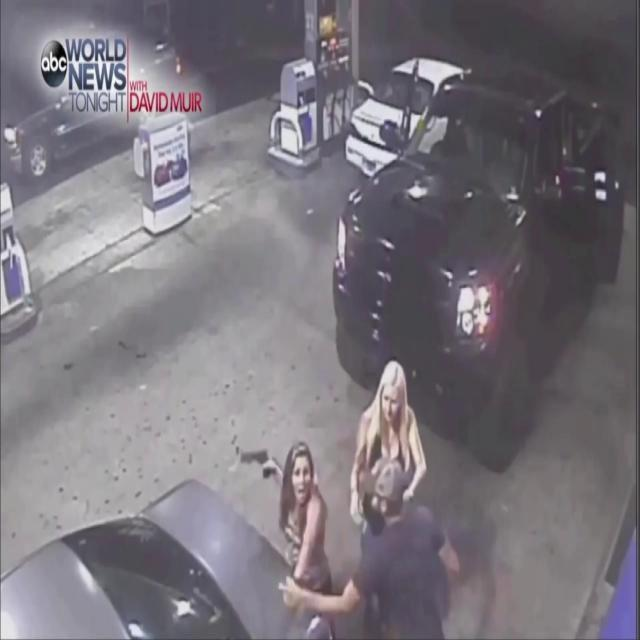weapon: (238, 449, 272, 481)
